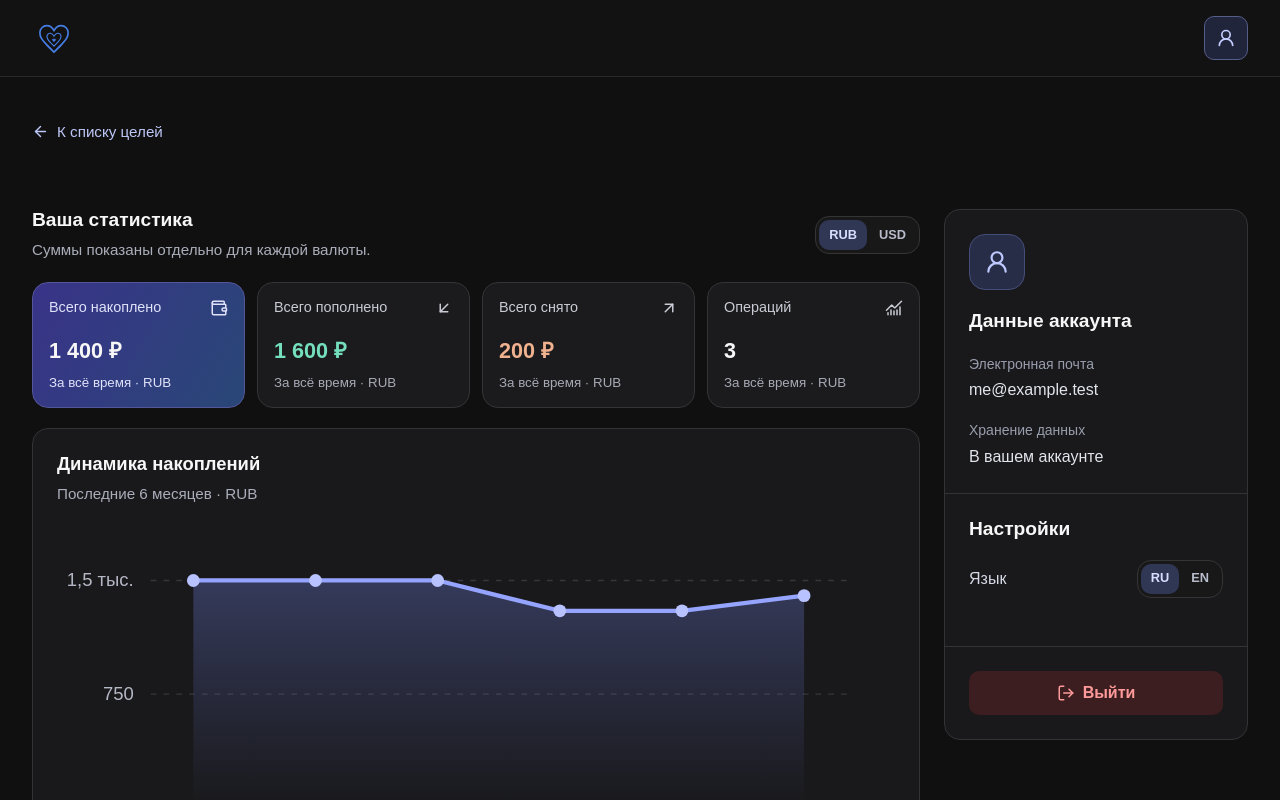
Test: returns to the welcome page after sign-out
Click the button "Выйти".
click(1096, 693)  # box [969,671,1223,715]
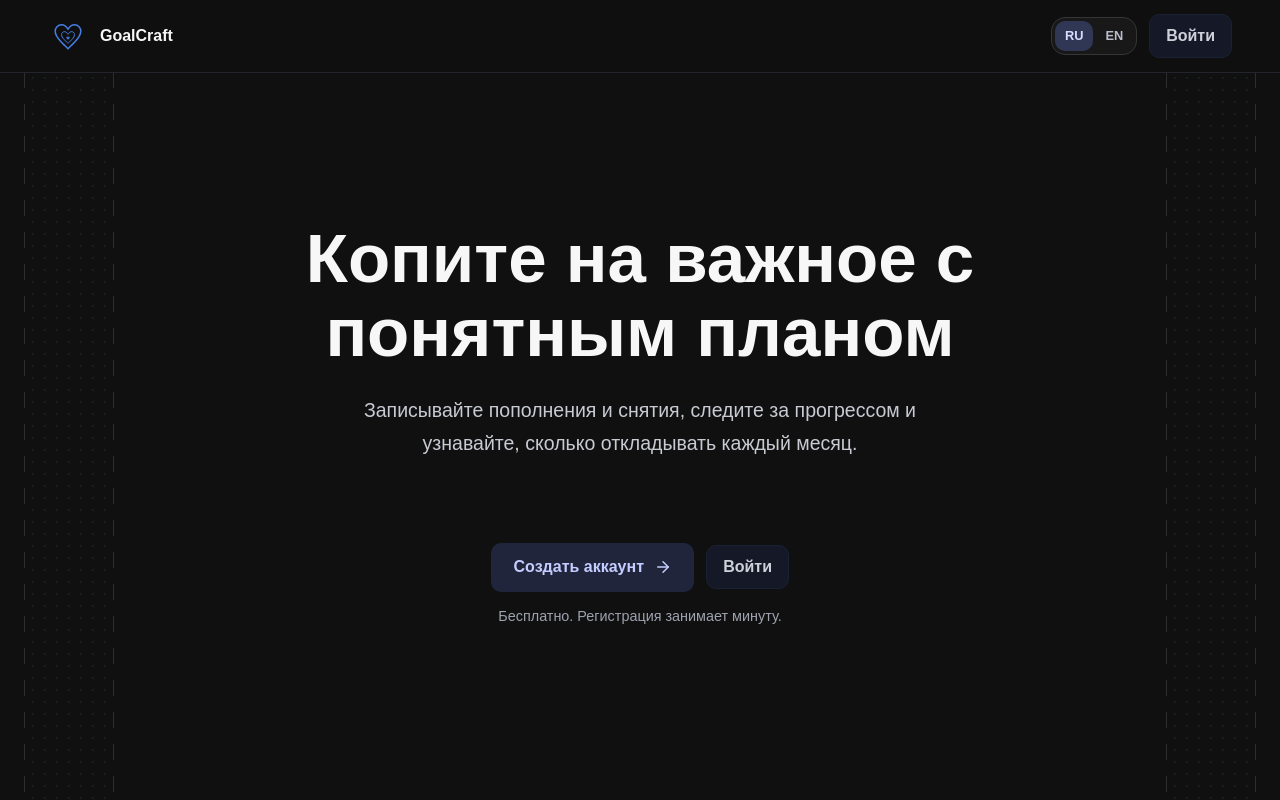
Now the heading "Копите на важное с понятным планом" is shown, box [306,220,974,372]
